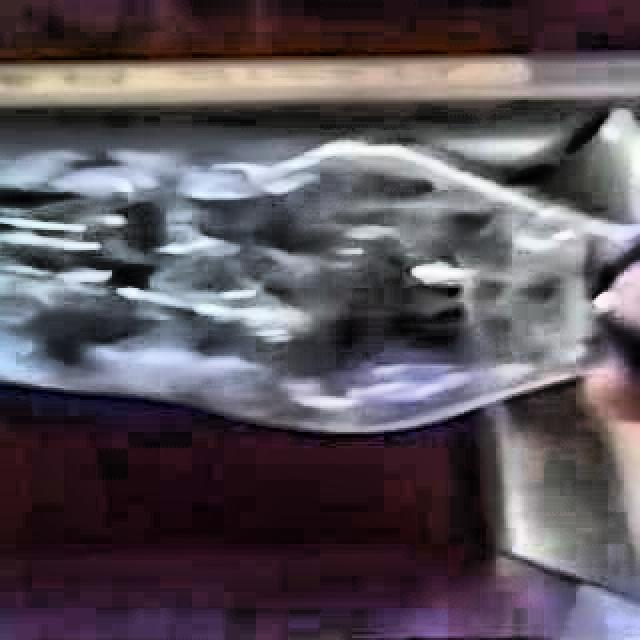plastic: (0, 140, 640, 433)
